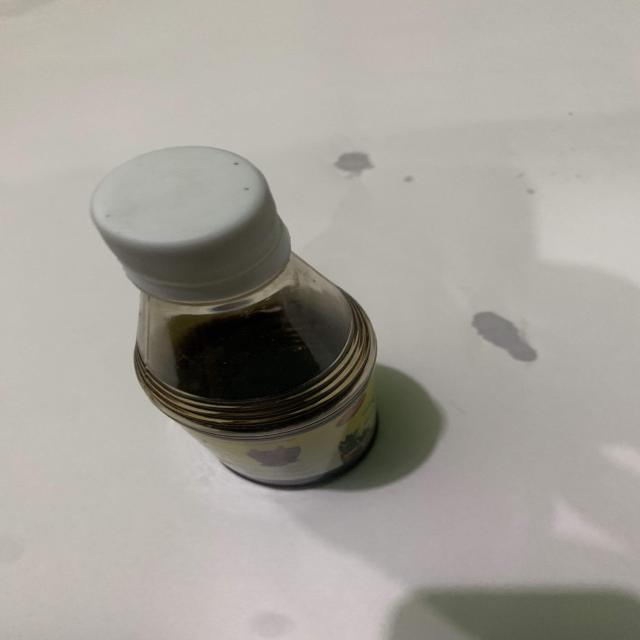bottle: (95, 134, 394, 496)
